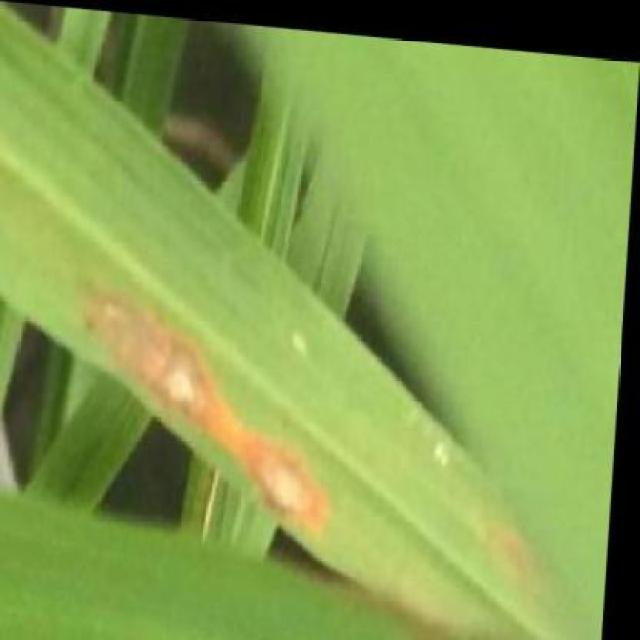Bacterial_Leaf_Blight: (85, 266, 253, 457), (251, 429, 374, 540)
